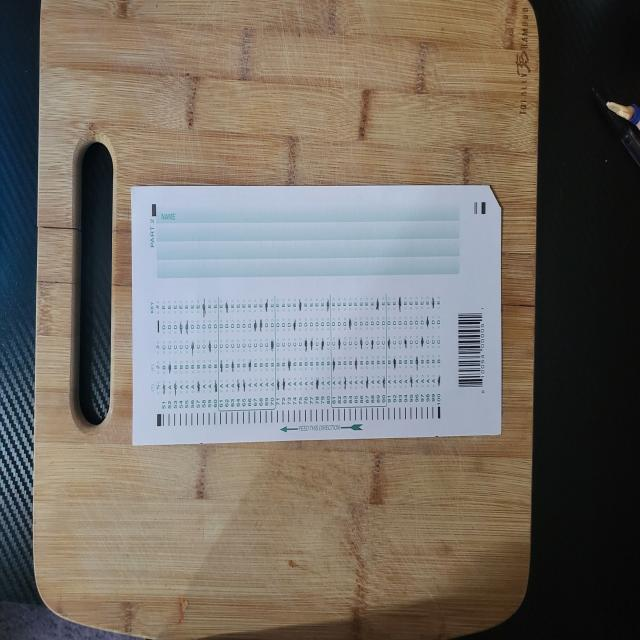scantron_back: (131, 186, 503, 445)
